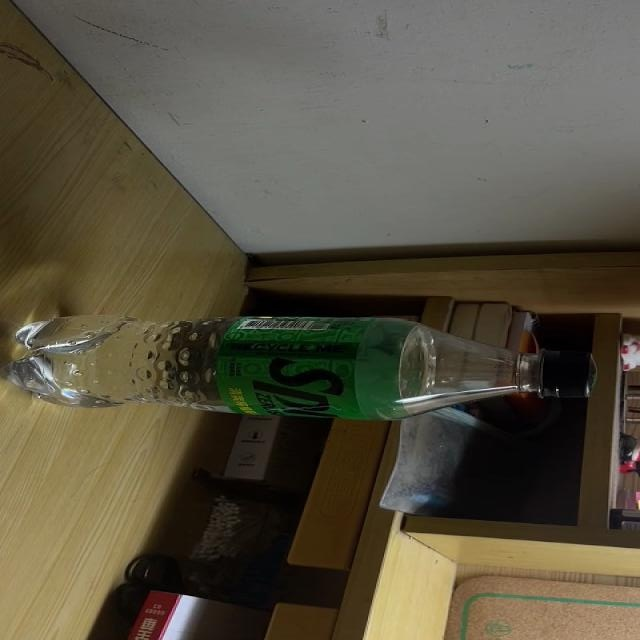Sprite: (2, 316, 597, 421)
